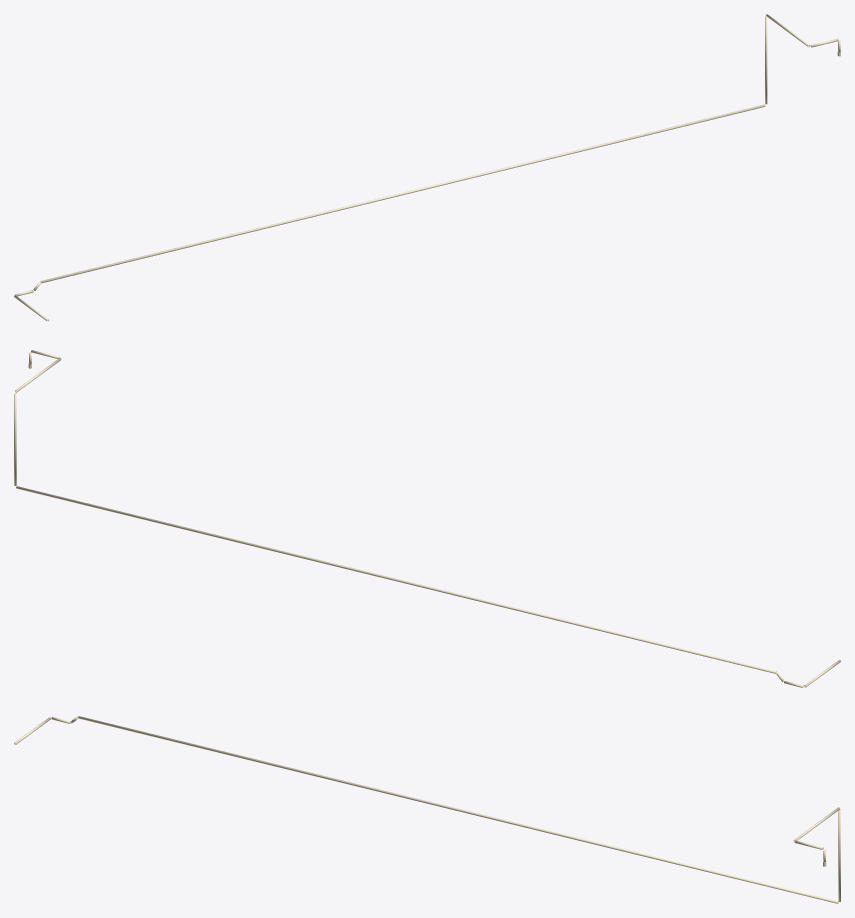
File: pipes_supply__water-city_filter_and_softener-yes_and_plumbing-cpvc__r4t.glb
The picture shows the model from 3 angles, top to bottom: view 1: azimuth 30°, elevation 25°; view 2: azimuth 150°, elevation 25°; view 3: azimuth 330°, elevation 25°; orthographic projection. The views are drawn at different scales.
Visible parts, largest first — view 1: pipe_supply_to_softener; view 2: pipe_supply_to_softener; view 3: pipe_supply_to_softener.
Part boxes in pixels (left/top/right/bottom): pipe_supply_to_softener: left=14, top=14, right=840, bottom=321; pipe_supply_to_softener: left=14, top=350, right=840, bottom=687; pipe_supply_to_softener: left=14, top=716, right=840, bottom=903.
Bounding box in the file's own units: 8.07 × 0.9822 × 0.8044.
